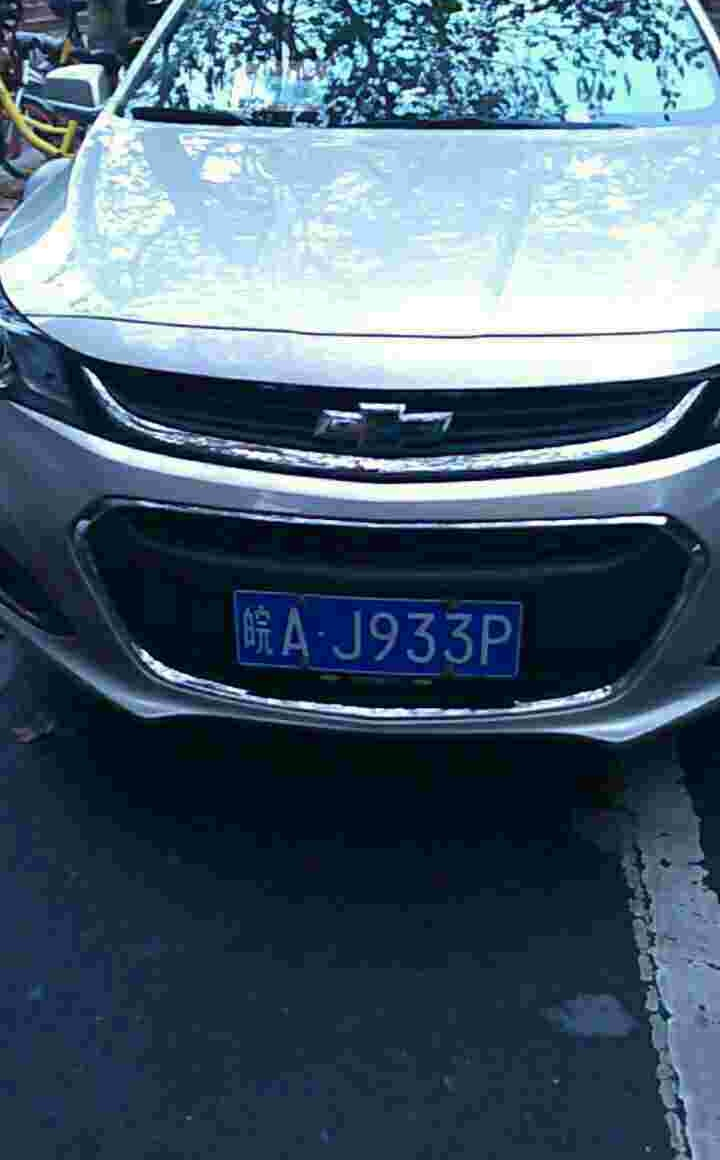license_plate: (222, 591, 529, 673)
